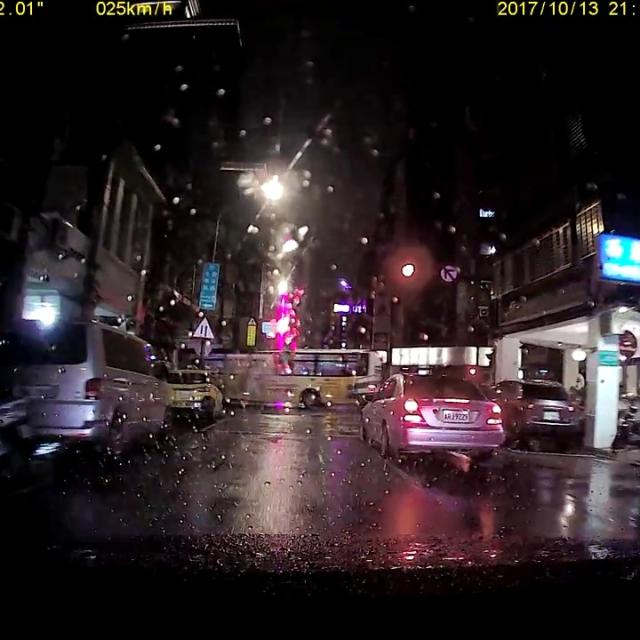Car: (0, 312, 174, 447), (354, 371, 503, 456), (491, 378, 579, 440), (162, 371, 228, 416)
